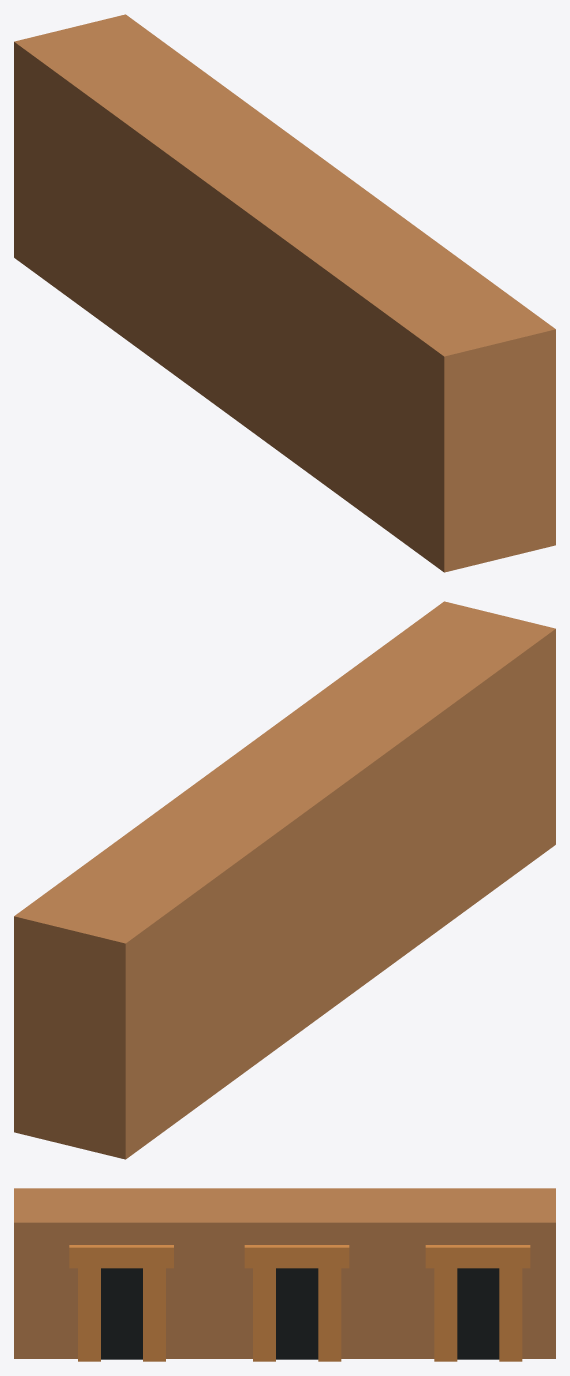
The model's file is wall-segment.fbx.
3 views of the same model, one above another, from view 1: azimuth 30°, elevation 25°; view 2: azimuth 150°, elevation 25°; view 3: azimuth 270°, elevation 25° (orthographic). The views are drawn at different scales.
Visible parts, largest first — view 1: Cube.037; view 2: Cube.037; view 3: Cube.037, Cube.049, Cube.046, Cube.041, Cube.050, Cube.045, Cube.047, Cube.042, Cube.048, Cube.040, Cube.051, Cube.044 (+1 smaller).
Boxes of the visible parts, x1=… form: Cube.037: x1=14, y1=14, x2=555, y2=572; Cube.037: x1=14, y1=601, x2=555, y2=1159; Cube.037: x1=14, y1=1188, x2=555, y2=1358; Cube.049: x1=457, y1=1268, x2=499, y2=1359; Cube.046: x1=276, y1=1268, x2=318, y2=1359; Cube.041: x1=101, y1=1268, x2=142, y2=1359; Cube.050: x1=499, y1=1256, x2=522, y2=1361; Cube.045: x1=318, y1=1256, x2=341, y2=1361; Cube.047: x1=244, y1=1245, x2=349, y2=1268; Cube.042: x1=143, y1=1256, x2=165, y2=1361; Cube.048: x1=425, y1=1245, x2=530, y2=1268; Cube.040: x1=69, y1=1245, x2=173, y2=1268; Cube.051: x1=434, y1=1268, x2=457, y2=1361; Cube.044: x1=253, y1=1268, x2=275, y2=1361.
Bounding box in the file's own units: 124 × 214 × 771.
